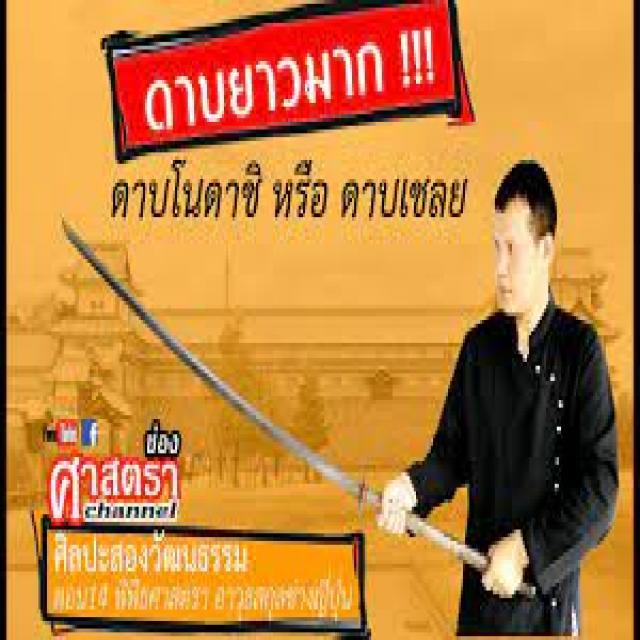long sword: (56, 210, 568, 610)
